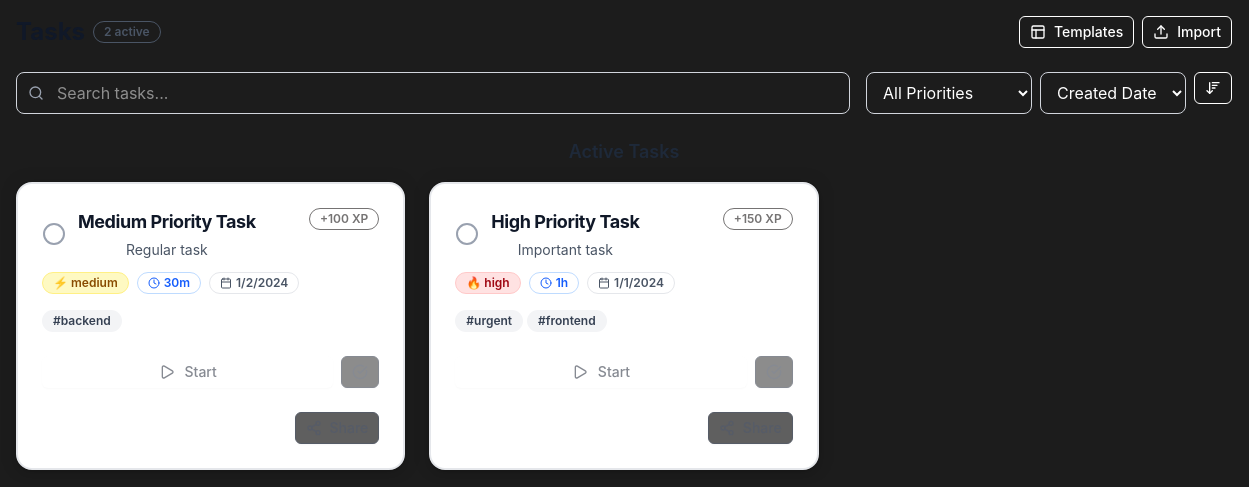
Test: TaskGrid › shows filtered empty state when search has no results
Type "nonexistent task" into the field with placeholder "Search tasks..." at (433,93), box [16, 72, 850, 114]
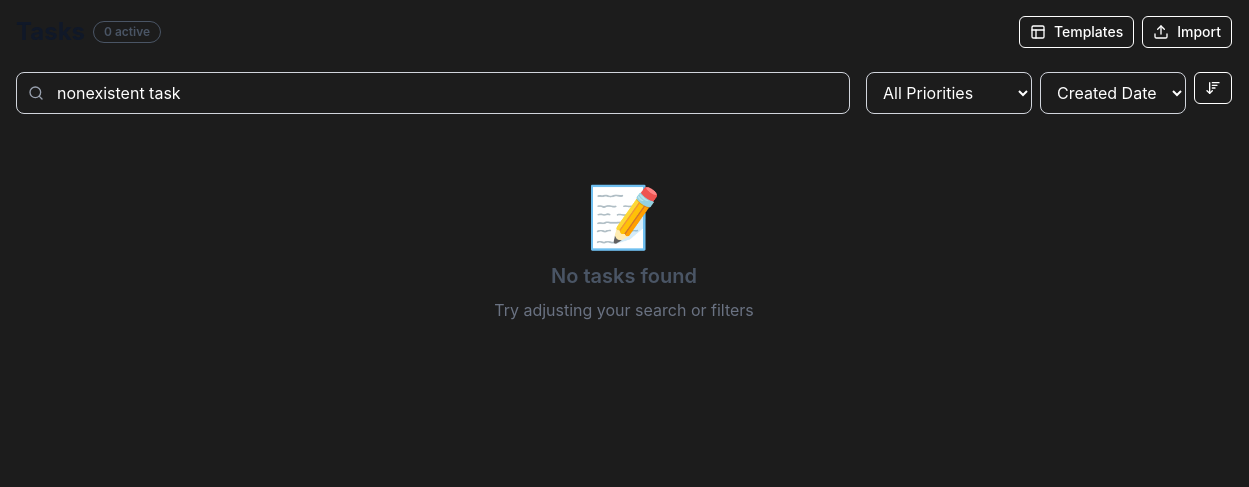
expect the heading "No tasks found" is shown: met, box [551, 264, 697, 288]
expect the text "Try adjusting your search or filters" is shown: met, box [494, 300, 754, 320]
